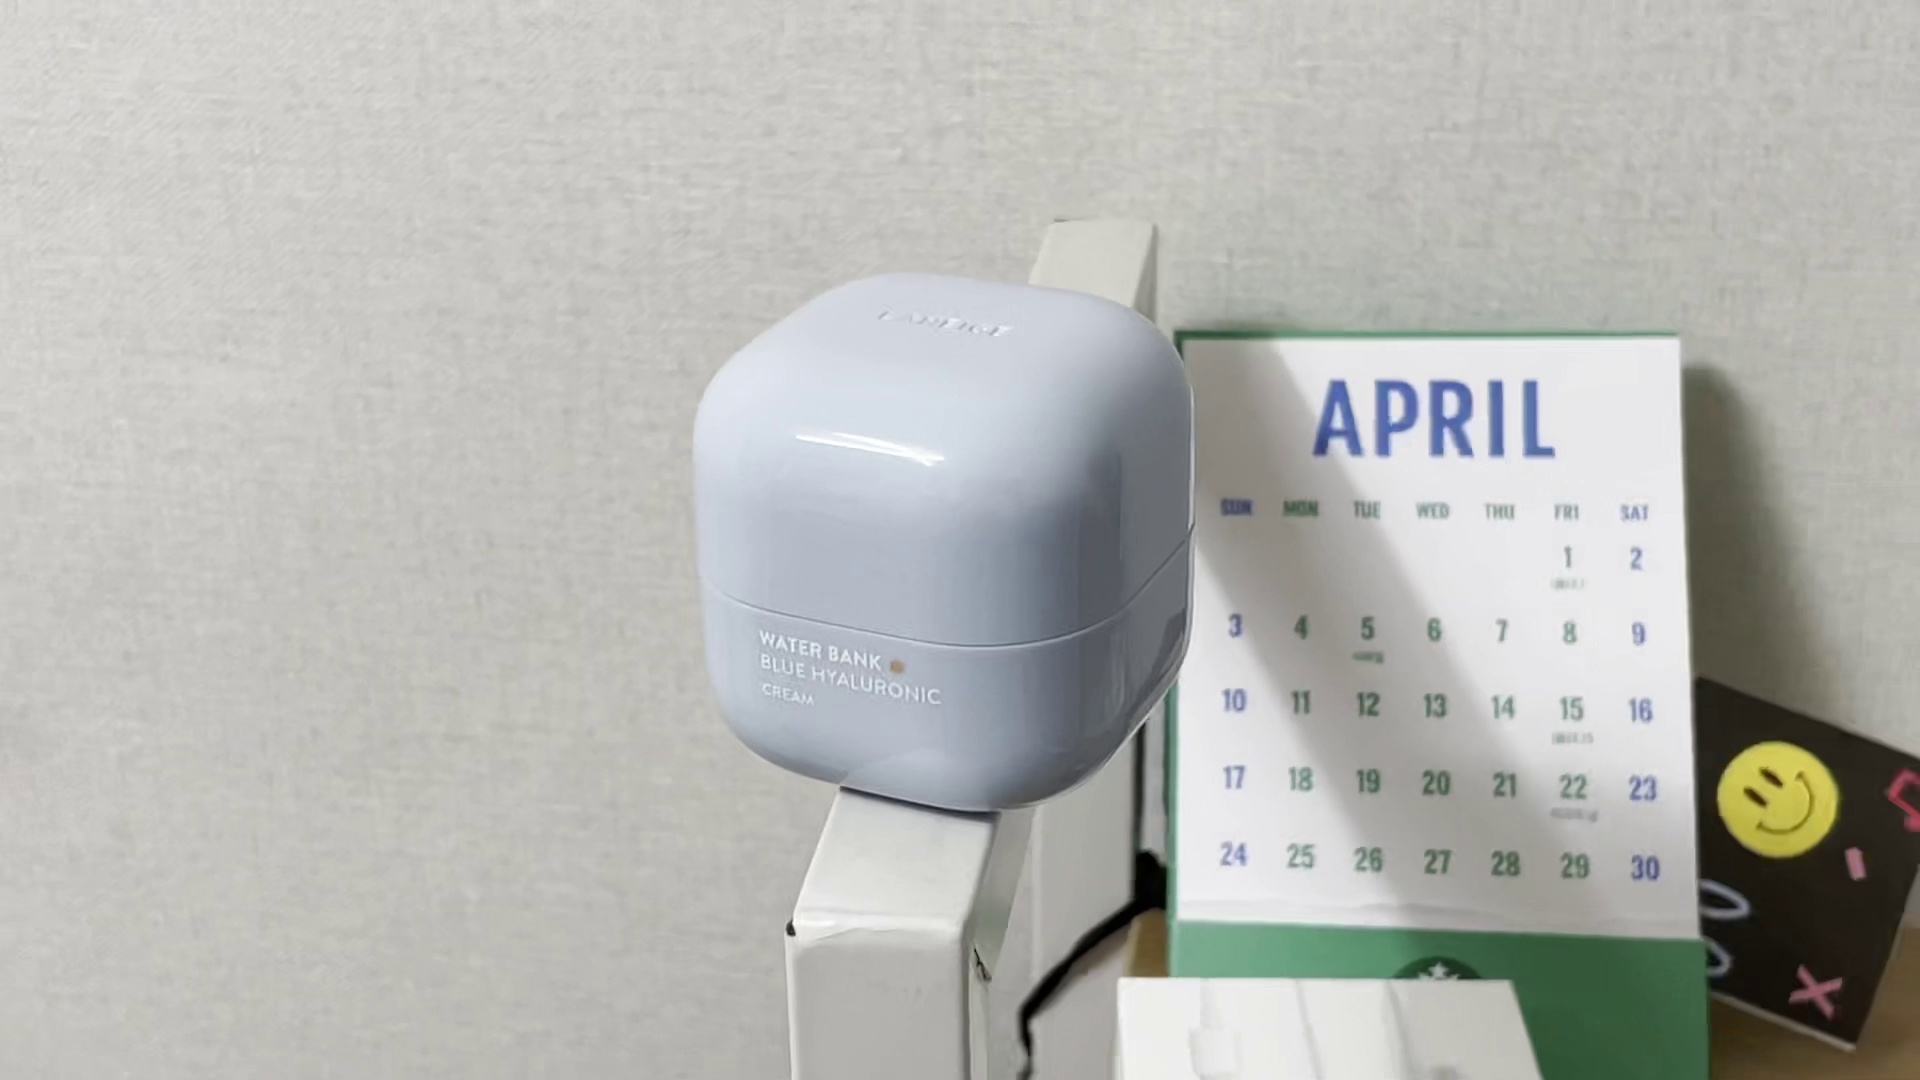cream: (683, 274, 1201, 808)
